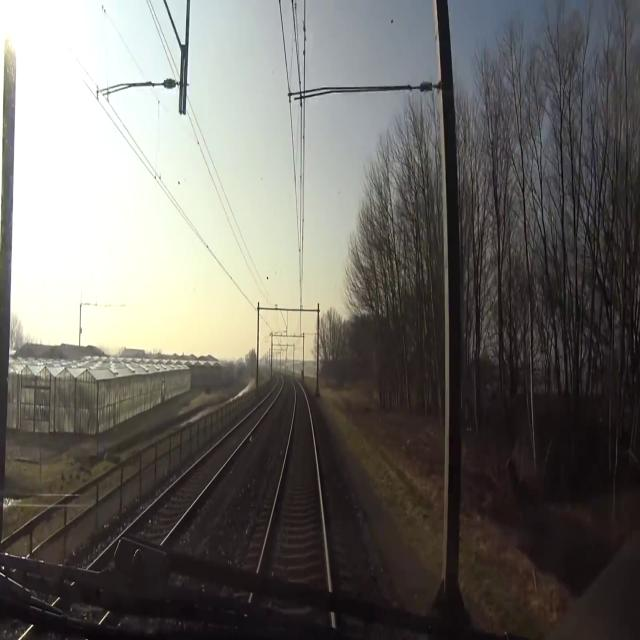rail-track: (128, 378, 281, 543), (260, 385, 328, 594)
